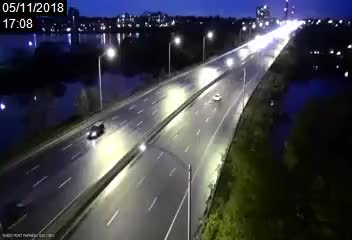personal_car: (85, 121, 105, 140), (211, 93, 224, 102)
